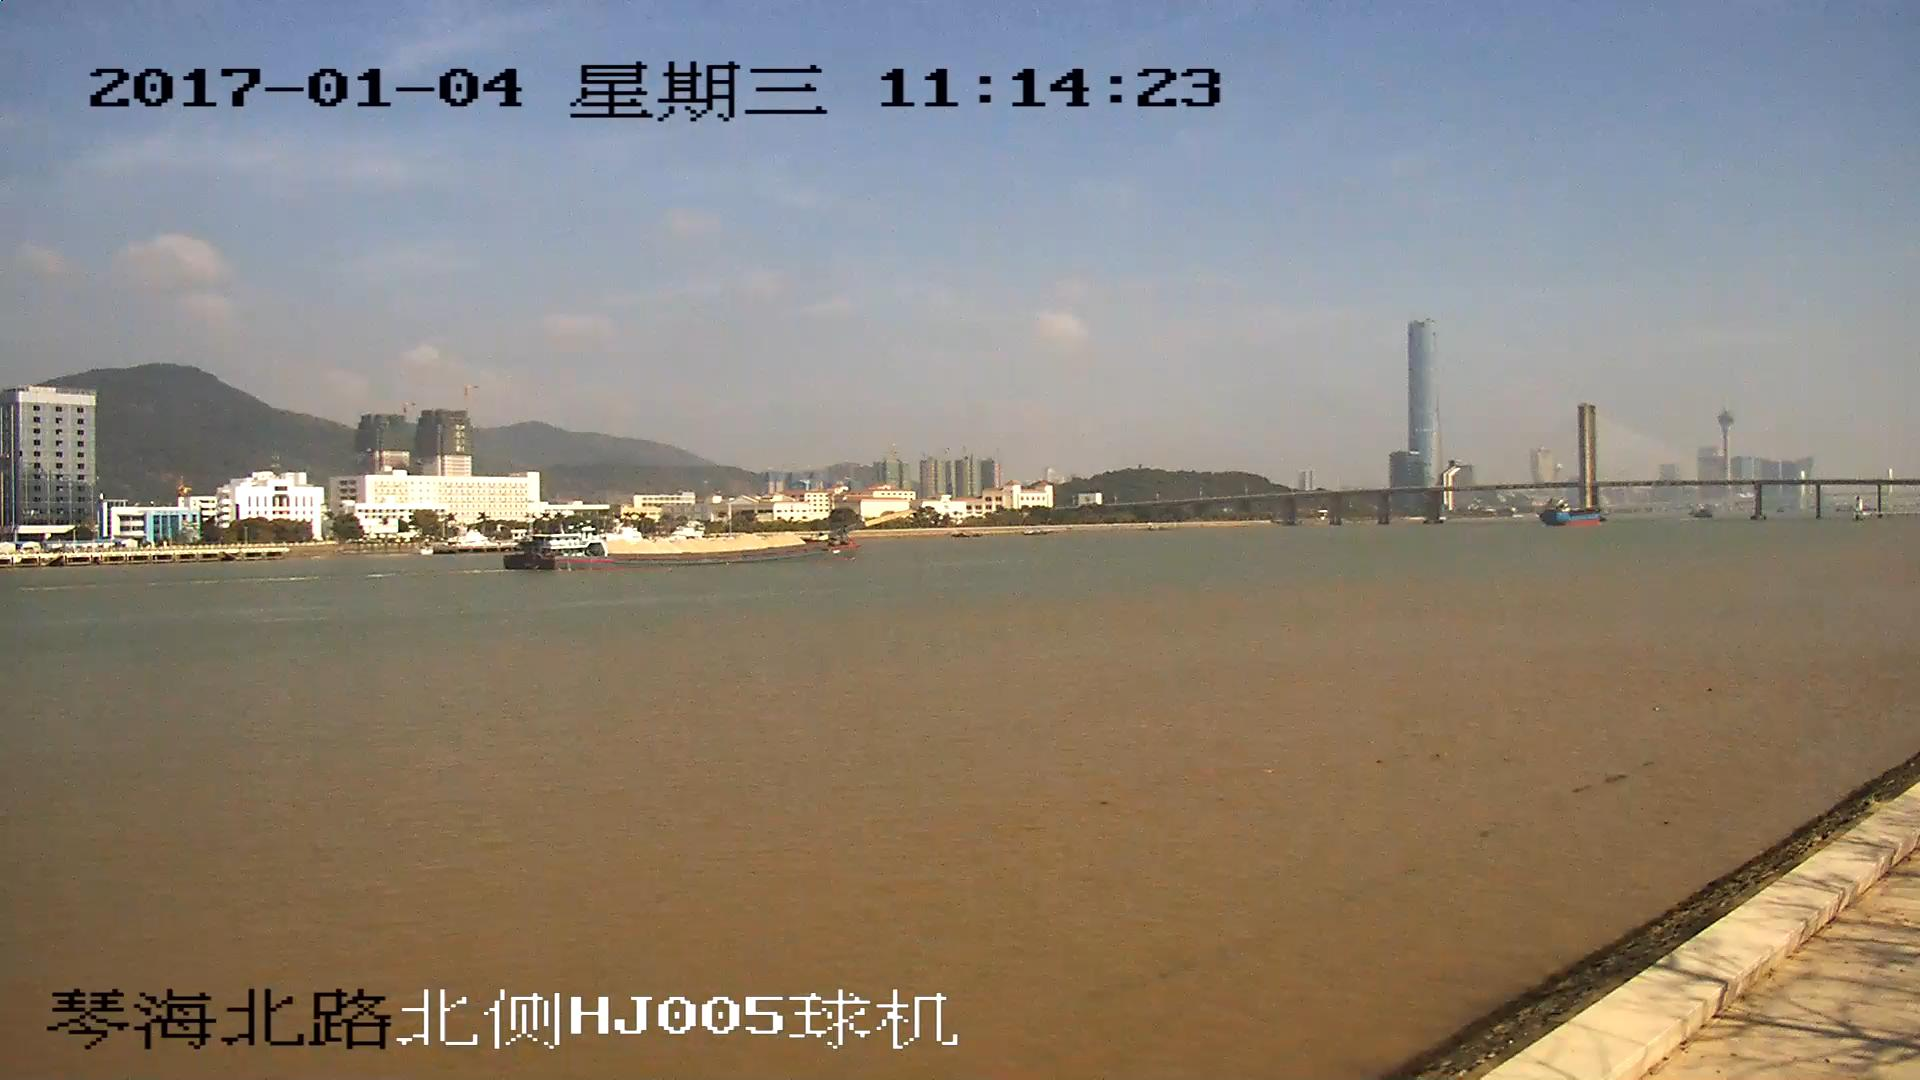ore carrier: (508, 511, 917, 572)
